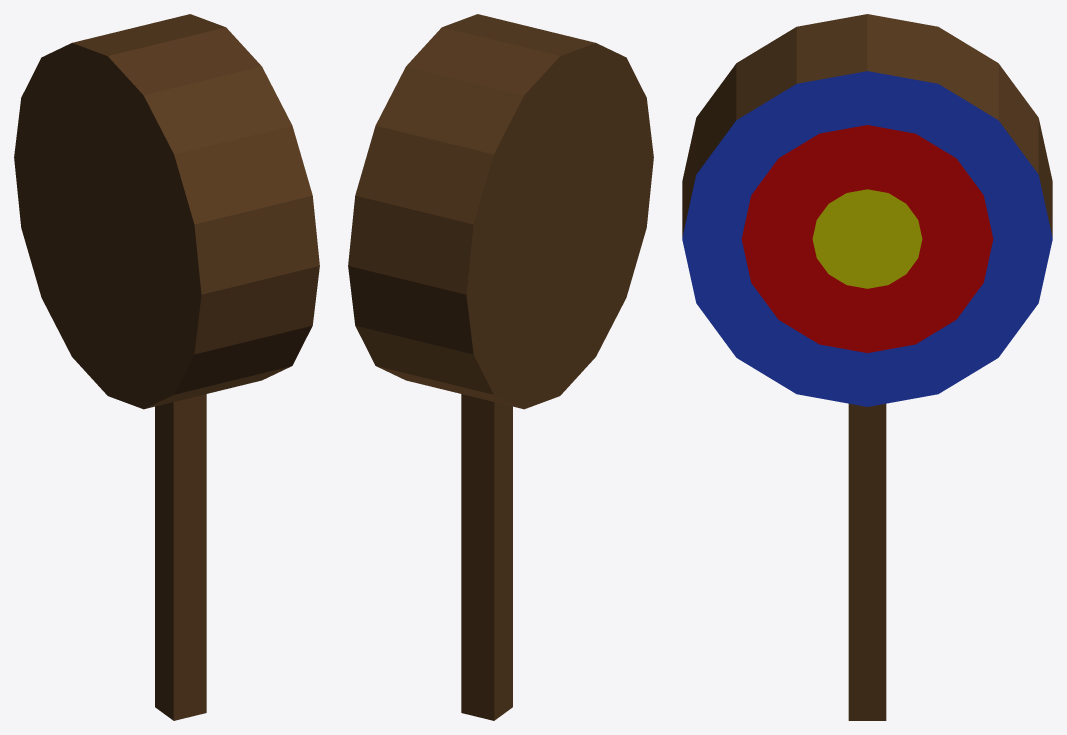
File: archery-target.lod1.glb
3 views of the same model, side by side, from view 1: azimuth 30°, elevation 25°; view 2: azimuth 150°, elevation 25°; view 3: azimuth 270°, elevation 25° (orthographic).
Visible parts, largest first — view 1: Cube.004_Material.008_0; view 2: Cube.004_Material.008_0; view 3: Cube.004_Material.008_0.
Part boxes in pixels (bbox=[...]): Cube.004_Material.008_0: bbox=[14, 14, 319, 720]; Cube.004_Material.008_0: bbox=[348, 14, 653, 720]; Cube.004_Material.008_0: bbox=[682, 14, 1052, 720].
Bounding box in the file's own units: 0.3136 × 1.7 × 0.8601.
